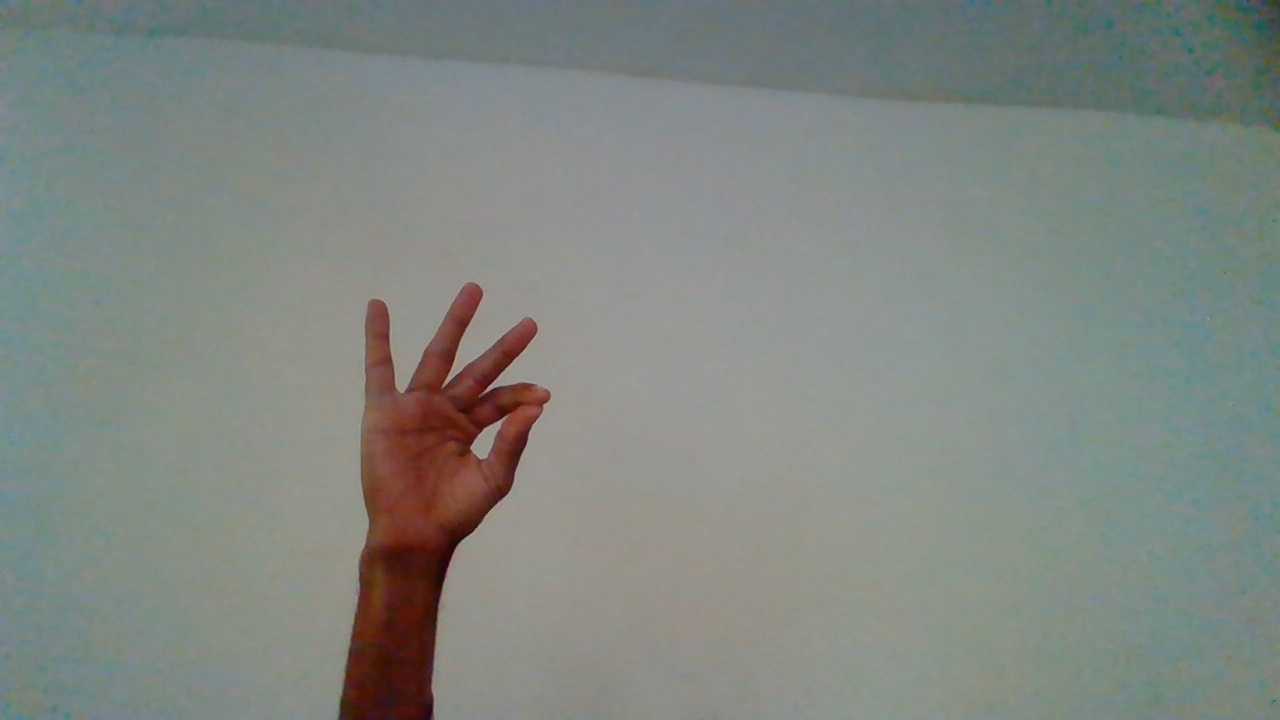le: (354, 279, 565, 658)
